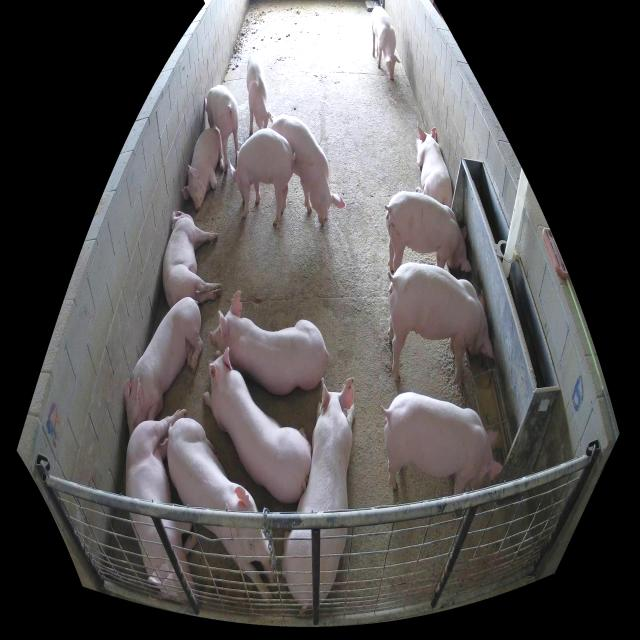pig: (168, 418, 278, 606), (282, 376, 356, 609), (202, 352, 311, 503), (126, 409, 204, 605), (387, 262, 496, 387), (210, 290, 329, 394), (384, 392, 502, 495), (125, 299, 203, 438), (270, 115, 345, 225), (386, 191, 475, 278), (229, 128, 294, 226), (162, 211, 222, 307), (182, 127, 224, 212), (204, 84, 239, 173), (416, 124, 453, 208), (371, 3, 401, 80), (246, 51, 270, 135)
